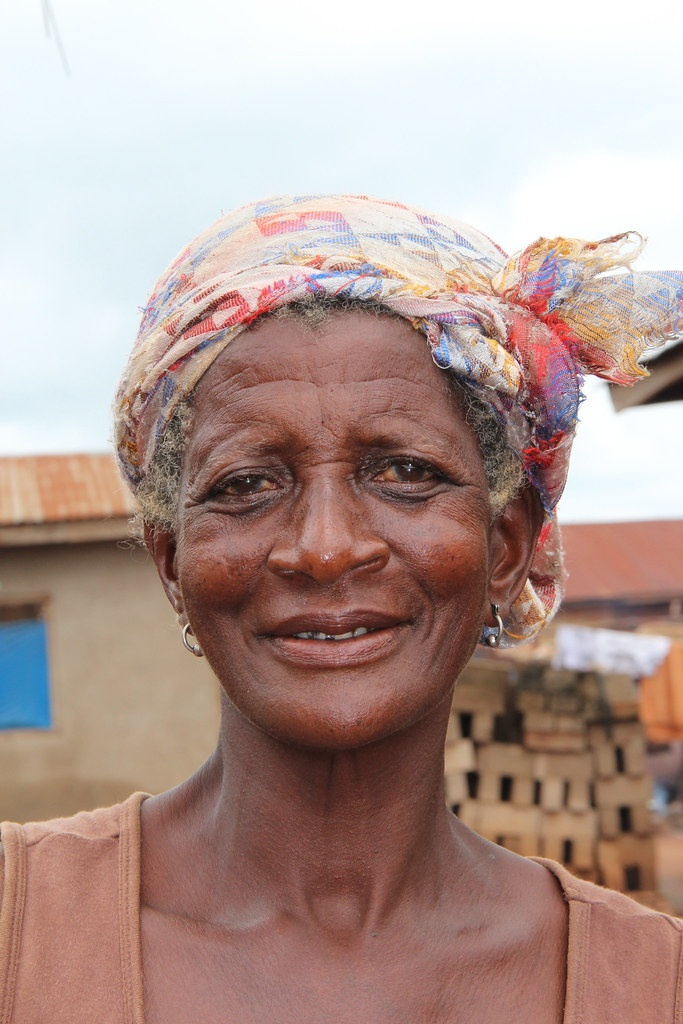without_mask: (153, 301, 569, 743)
